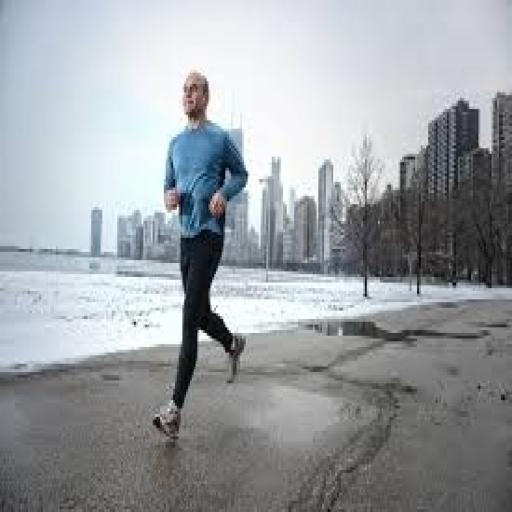running: (149, 67, 251, 442)
